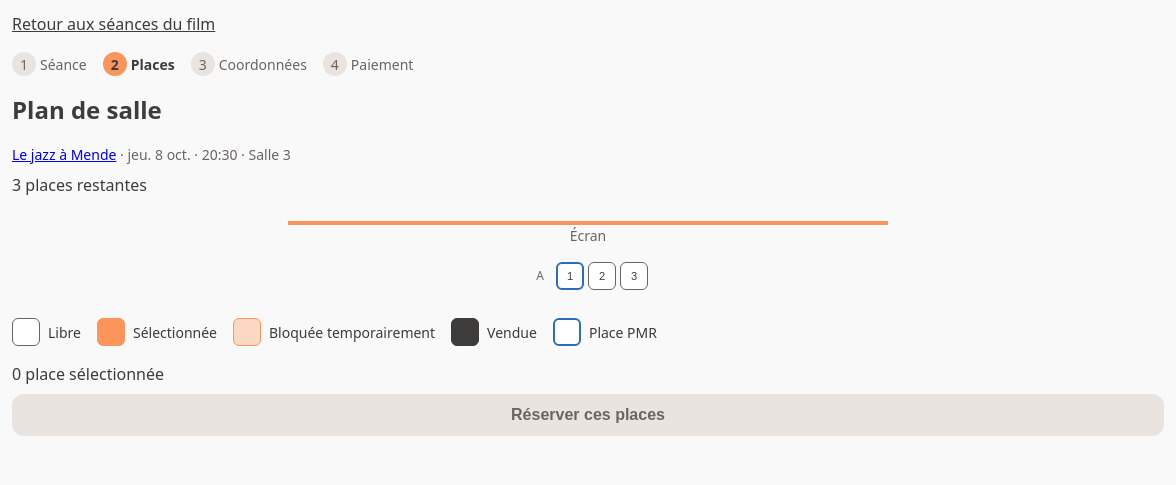
Test case: SeatMapPage (US 2.2) › refuse des places qui ne sont pas côte à côte
Click the button named "A1 libre": (570, 276) [556,262,584,290]
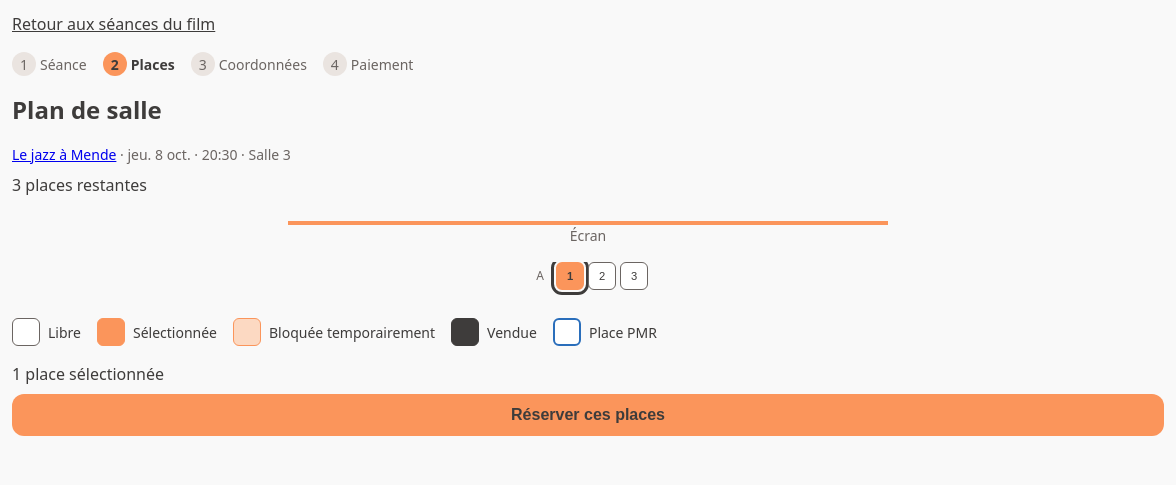
Click the button named "A3 libre": (634, 276) [620,262,648,290]
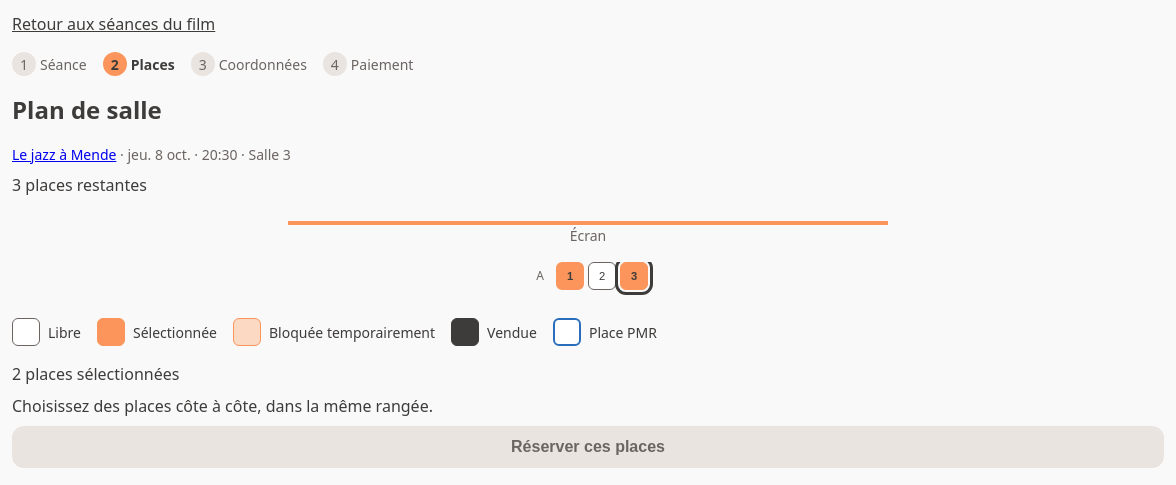
Expected: the button "Réserver ces places" is disabled, [12,426,1164,468]
Expected: the text "Choisissez des places côte à côte, dans la même rangée." is shown, [12,395,433,417]
